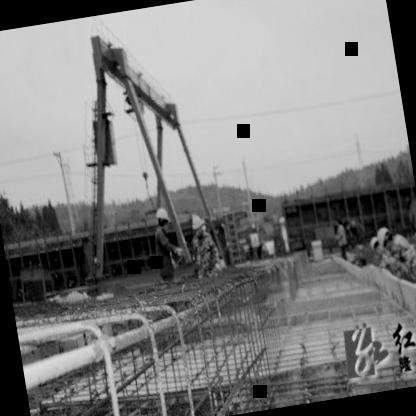helmet: (374, 221, 398, 251), (151, 202, 172, 233), (186, 211, 206, 240), (367, 232, 386, 260)
